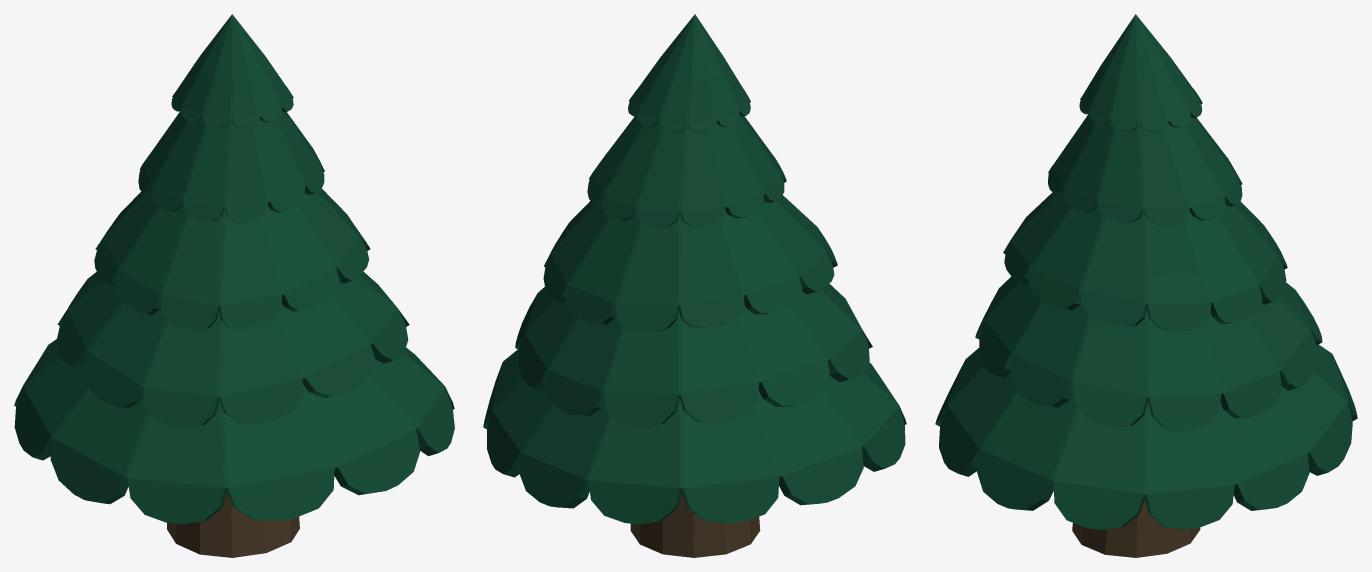
Rendered from Pino1.fbx.
The picture shows the model from 3 angles, left to right: view 1: azimuth 30°, elevation 25°; view 2: azimuth 150°, elevation 25°; view 3: azimuth 270°, elevation 25°; orthographic projection.
Parts seen in each view (by area): view 1: PinoVariation1Exportable; view 2: PinoVariation1Exportable; view 3: PinoVariation1Exportable.
Boxes of the visible parts, x1,y1,x2,y2 form: PinoVariation1Exportable: (14,14,454,557); PinoVariation1Exportable: (483,14,906,557); PinoVariation1Exportable: (935,14,1357,557).
Bounding box in the file's own units: 1607 × 2102 × 1560.
1 material, 1 textured.
